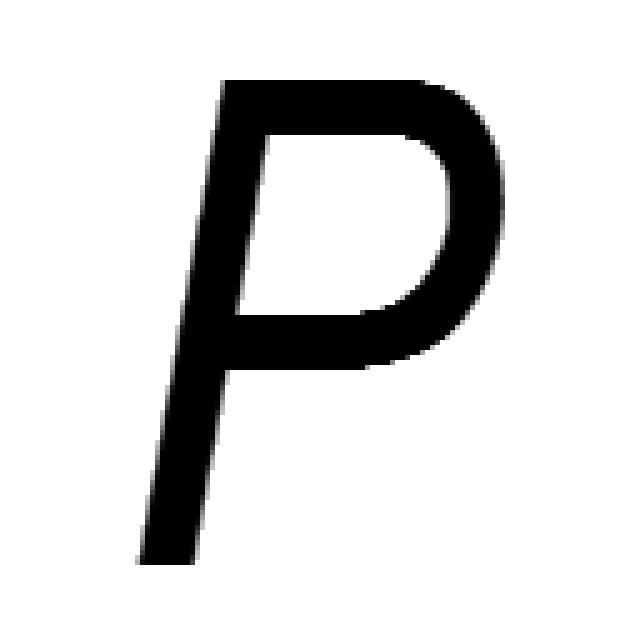P: (140, 80, 510, 570)
